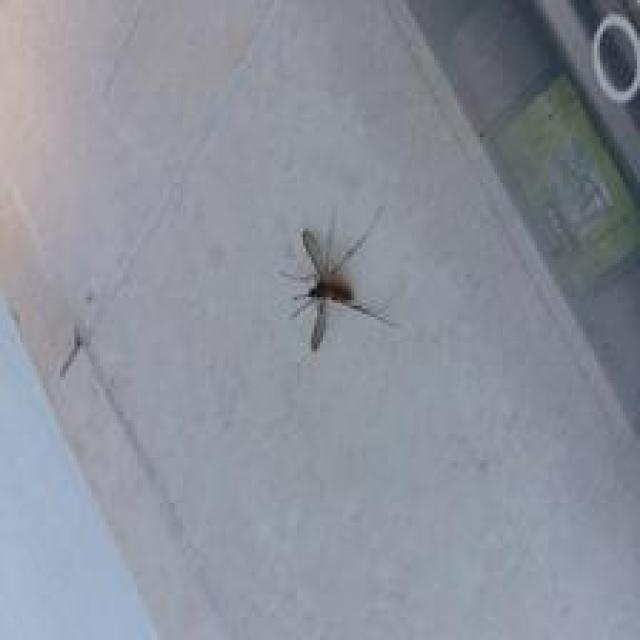Culex: (278, 204, 398, 353)
